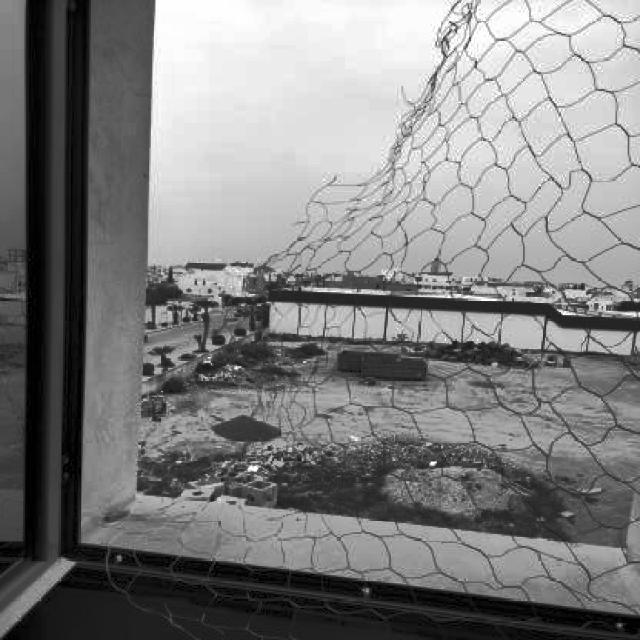anomaly-fence: (21, 2, 511, 613)
